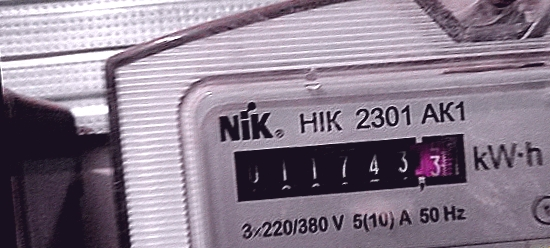0: (246, 155, 262, 184)
1: (306, 149, 321, 178), (277, 152, 290, 180)
3: (395, 144, 412, 172), (427, 150, 443, 176)
4: (365, 147, 382, 175)
7: (335, 146, 353, 176)
screen: (222, 116, 481, 213)
